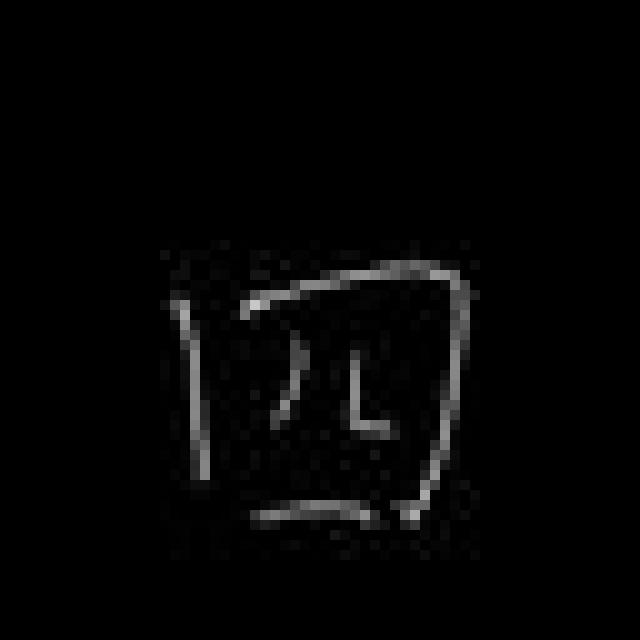4 -four-: (159, 255, 469, 546)
